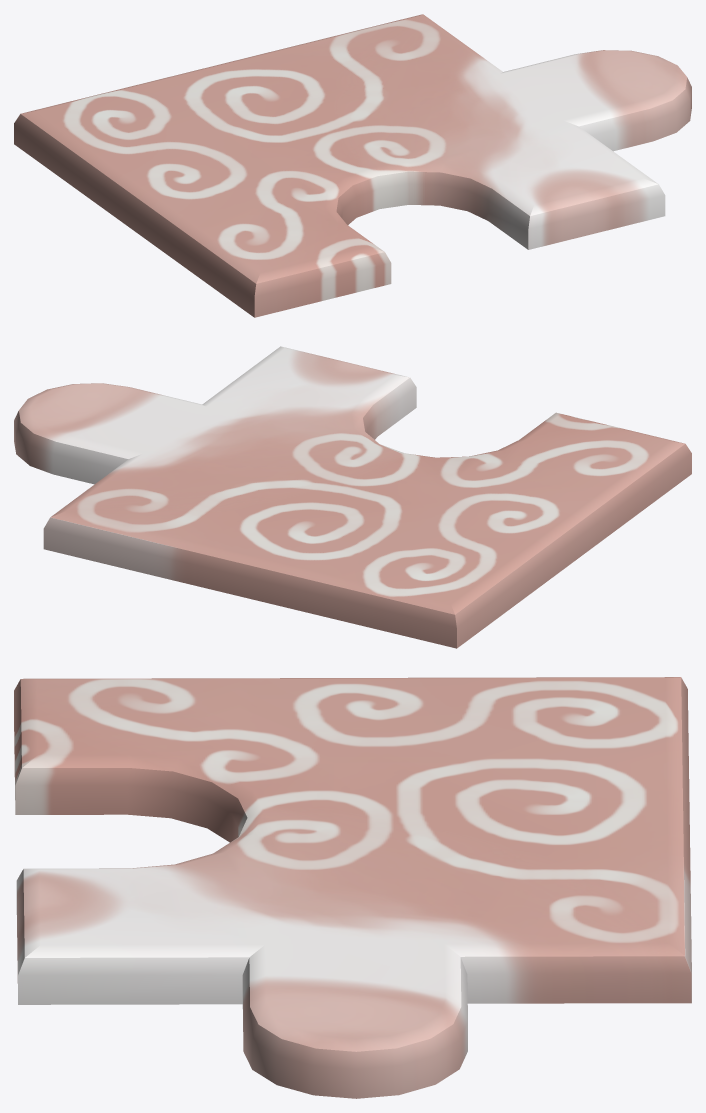
The model's file is puzzle1.fbx.
3 renders of one model, top to bottom at view 1: azimuth 30°, elevation 25°; view 2: azimuth 150°, elevation 25°; view 3: azimuth 270°, elevation 25°, orthographic. The views are drawn at different scales.
Visible parts, largest first — view 1: polySurface6; view 2: polySurface6; view 3: polySurface6.
Part boxes in pixels (<box>): polySurface6: <box>14,14,691,317</box>; polySurface6: <box>14,346,691,648</box>; polySurface6: <box>14,677,691,1098</box>.
Size of the model in its own units: 1.34 by 0.0821 by 1.01.
